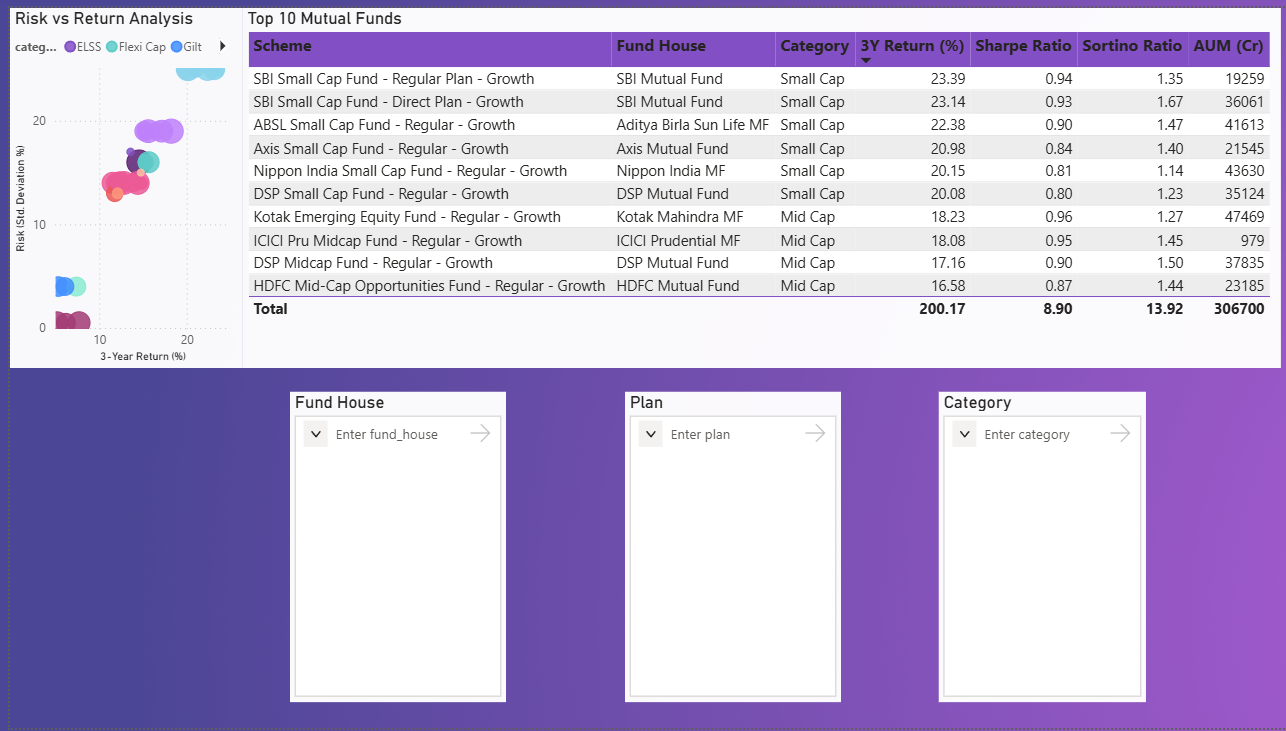

This screenshot's page, from the dashboard's own definition file:
{"tool":"powerbi","page":{"name":"Fund Performance","canvas":[1280,720],"ordinal":1},"visuals":[{"type":"scatterChart","title":"Risk vs Return Analysis","fields":{"X":["scheme_performance_clean.return_3yr_pct"],"Y":["scheme_performance_clean.std_dev_ann_pct"],"Series":["scheme_performance_clean.category"],"Size":["Sum(scheme_performance_clean.aum_crore)"]},"box":[0,0,232.5,292.5],"z":0},{"type":"textSlicer","title":"Fund House","fields":{"Values":["scheme_performance_clean.fund_house"]},"box":[280,383.8,290,310],"z":2000},{"type":"textSlicer","title":"Category","fields":{"Values":["scheme_performance_clean.category"]},"box":[928.8,383.8,207.5,310],"z":3000},{"type":"textSlicer","title":"Plan","fields":{"Values":["scheme_performance_clean.plan"]},"box":[640,383.8,216.2,310],"z":4000},{"type":"tableEx","title":"Top 10 Mutual Funds","fields":{"Values":["scheme_performance_clean.scheme_name","scheme_performance_clean.fund_house","scheme_performance_clean.category","Sum(scheme_performance_clean.return_3yr_pct)","Sum(scheme_performance_clean.sharpe_ratio)","Sum(scheme_performance_clean.sortino_ratio)","Sum(scheme_performance_clean.aum_crore)"]},"box":[232.5,0,1038.8,360],"z":5000}]}

Visuals, with their boxes in screenshot pixels (x1, y1, x2, y2), scaled from the page's 1280x720 canvas onto the 1286x731 screenshot:
"Risk vs Return Analysis" scatterChart: (left=0, top=0, right=234, bottom=297)
"Fund House" textSlicer: (left=281, top=390, right=573, bottom=704)
"Category" textSlicer: (left=933, top=390, right=1142, bottom=704)
"Plan" textSlicer: (left=643, top=390, right=860, bottom=704)
"Top 10 Mutual Funds" tableEx: (left=234, top=0, right=1277, bottom=366)
